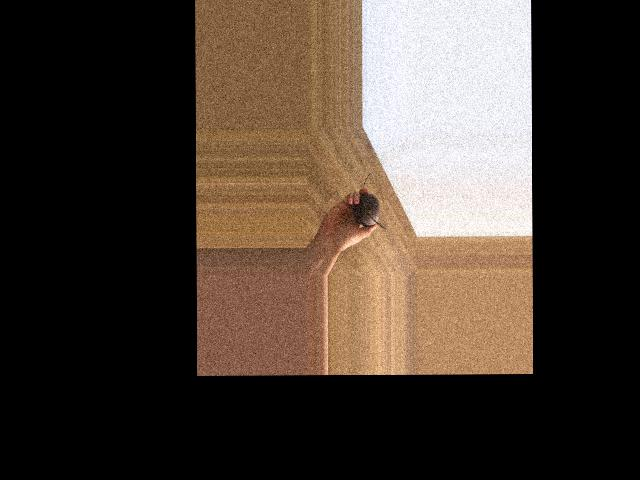beet: (353, 172, 386, 229)
